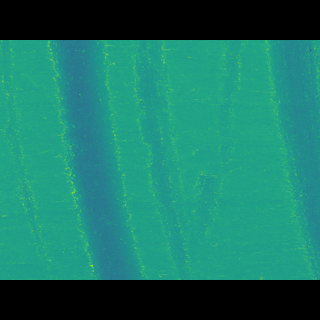Loch: (134, 70, 247, 250), (44, 69, 149, 249), (266, 69, 320, 251), (0, 70, 55, 242)
